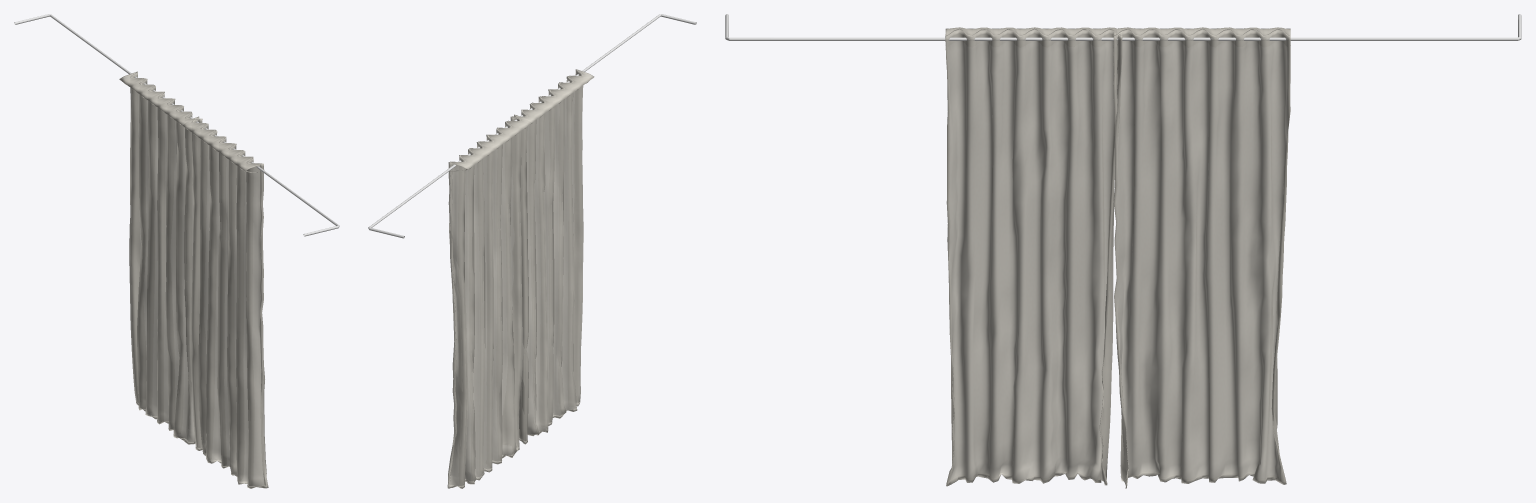
The model's file is SM_Curtain_001.fbx.
The picture shows the model from 3 angles, left to right: view 1: azimuth 30°, elevation 25°; view 2: azimuth 150°, elevation 25°; view 3: azimuth 270°, elevation 25°; orthographic projection. The views are drawn at different scales.
Parts seen in each view (by area): view 1: CL_Curtain_Sheer_01_MASTER_R_Panel, CL_Curtain_Sheer_01_MASTER_L_Panel, CL_Curtain_Sheer_01_MASTER_SeparateRod_Preview; view 2: CL_Curtain_Sheer_01_MASTER_L_Panel, CL_Curtain_Sheer_01_MASTER_R_Panel, CL_Curtain_Sheer_01_MASTER_SeparateRod_Preview; view 3: CL_Curtain_Sheer_01_MASTER_L_Panel, CL_Curtain_Sheer_01_MASTER_R_Panel, CL_Curtain_Sheer_01_MASTER_SeparateRod_Preview.
Part boxes in pixels (x1,y1,x2,y2): CL_Curtain_Sheer_01_MASTER_R_Panel: [180, 116, 268, 488]; CL_Curtain_Sheer_01_MASTER_L_Panel: [119, 71, 202, 444]; CL_Curtain_Sheer_01_MASTER_SeparateRod_Preview: [14, 14, 339, 236]; CL_Curtain_Sheer_01_MASTER_L_Panel: [447, 114, 531, 488]; CL_Curtain_Sheer_01_MASTER_R_Panel: [510, 69, 594, 444]; CL_Curtain_Sheer_01_MASTER_SeparateRod_Preview: [368, 14, 696, 238]; CL_Curtain_Sheer_01_MASTER_L_Panel: [1113, 27, 1290, 488]; CL_Curtain_Sheer_01_MASTER_R_Panel: [945, 27, 1122, 486]; CL_Curtain_Sheer_01_MASTER_SeparateRod_Preview: [725, 14, 1521, 40].
Bounding box in the file's own units: 33.86 × 215 × 347.
